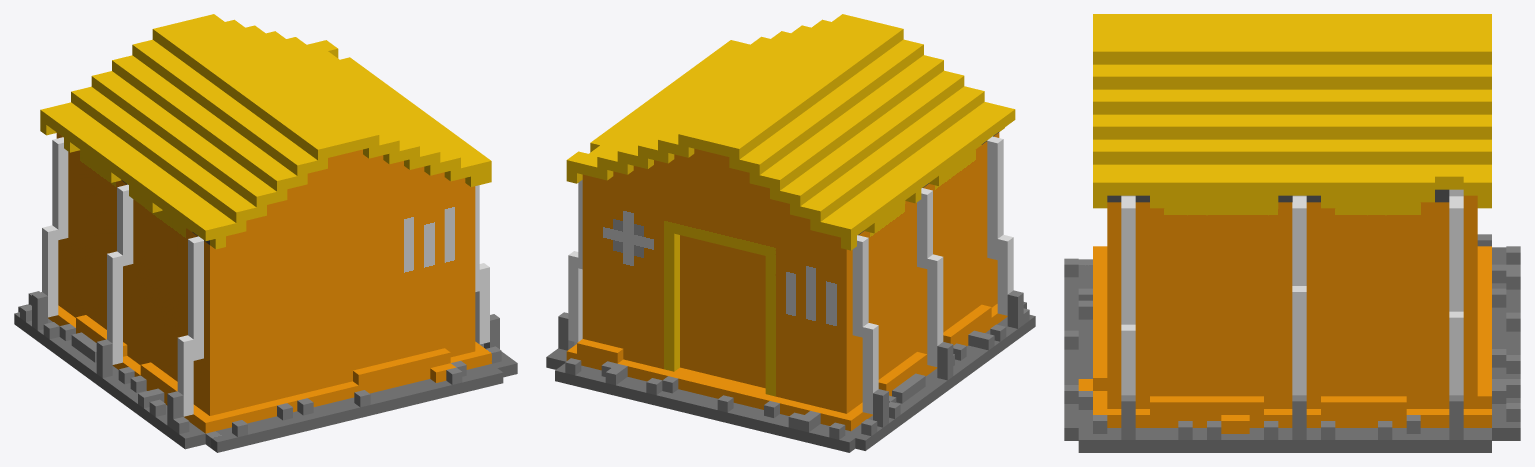
The model's file is obj_house7b.fbx.
The picture shows the model from 3 angles, left to right: view 1: azimuth 30°, elevation 25°; view 2: azimuth 150°, elevation 25°; view 3: azimuth 270°, elevation 25°; orthographic projection. The views are drawn at different scales.
Parts seen in each view (by area): view 1: obj_house7b; view 2: obj_house7b; view 3: obj_house7b.
Boxes of the visible parts, left/top/right/bottom form: obj_house7b: left=14, top=14, right=517, bottom=452; obj_house7b: left=546, top=14, right=1035, bottom=452; obj_house7b: left=1064, top=14, right=1520, bottom=452.
Bounding box in the file's own units: 3.2 × 3.2 × 2.5.
1 material, 1 textured.
